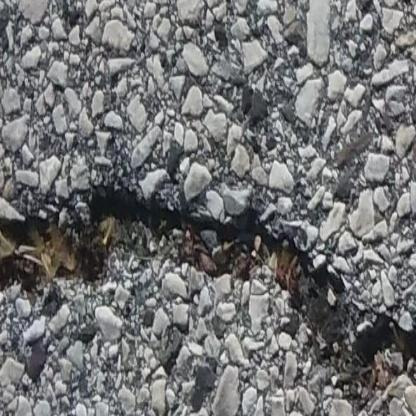Cracks: (0, 185, 416, 390)
